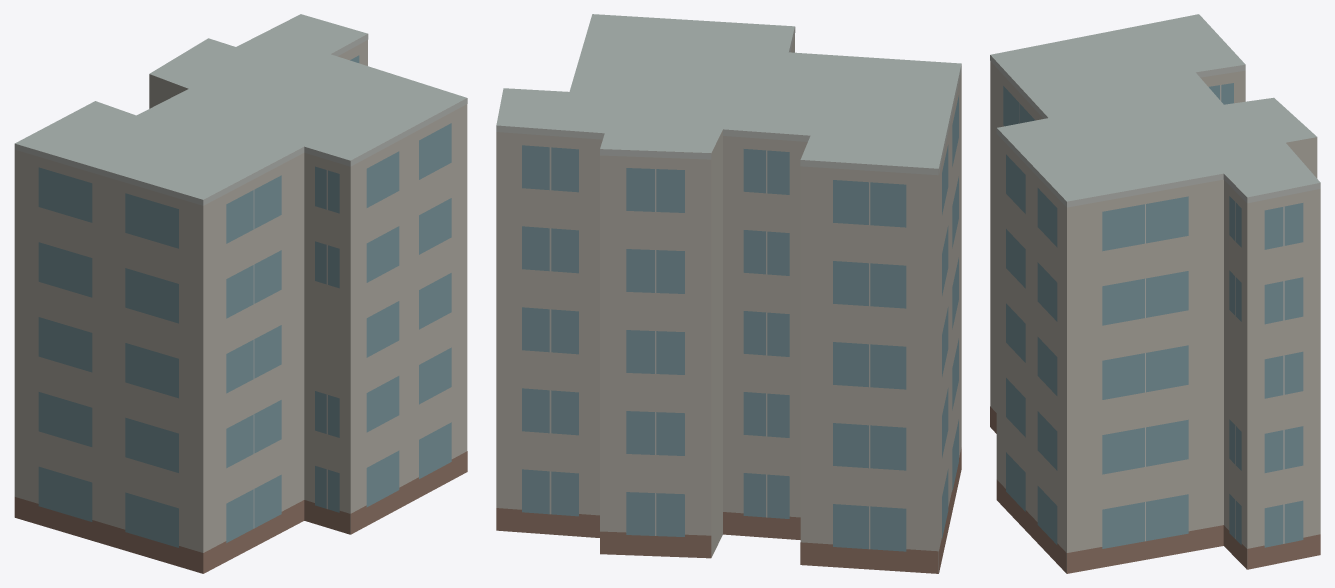
Rendered from survey-upis-32866151.glb.
3 renders of one model, left to right at view 1: azimuth 30°, elevation 25°; view 2: azimuth 150°, elevation 25°; view 3: azimuth 270°, elevation 25°, orthographic. The views are drawn at different scales.
Parts seen in each view (by area): view 1: survey-upis-32866151.tmp; view 2: survey-upis-32866151.tmp; view 3: survey-upis-32866151.tmp.
Boxes of the visible parts, left/top/right/bottom form: survey-upis-32866151.tmp: left=14, top=14, right=467, bottom=573; survey-upis-32866151.tmp: left=496, top=14, right=961, bottom=573; survey-upis-32866151.tmp: left=990, top=14, right=1320, bottom=573.
Size of the model in its own units: 16.44 by 15.2 by 12.24.
